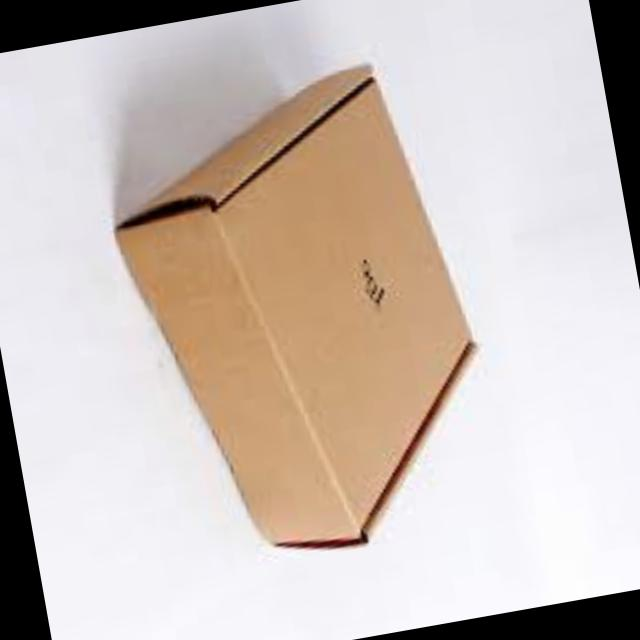cardboard paper: (123, 70, 481, 550)
